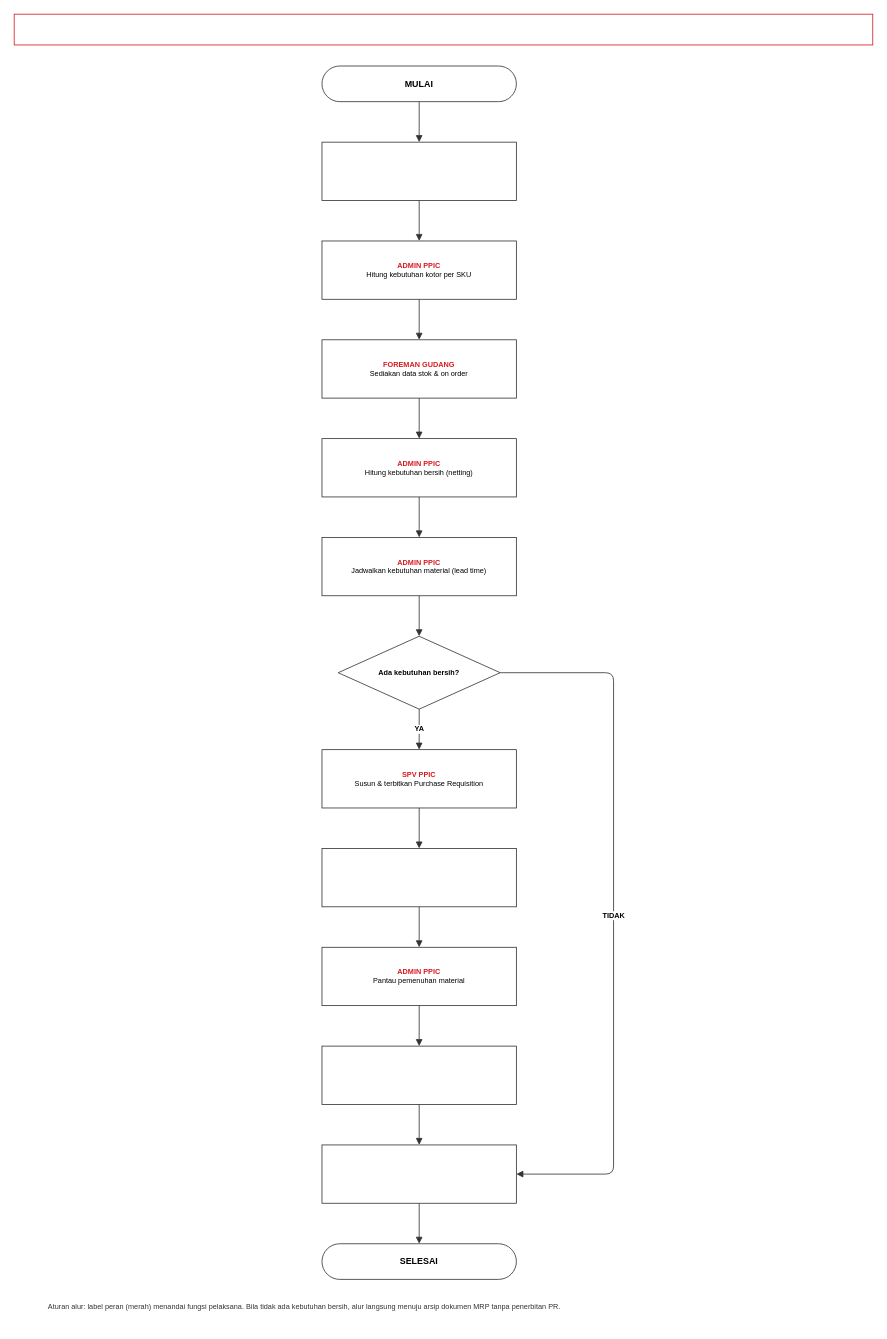
This 887x1339 diagram has some shape labels left out. The shapes that lost their labels are listed below. From the top down, each one's centre as x and y in pixels, then its label:
(x=443, y=29): FLOW SOP-AKSI-PPIC-02 MATERIAL REQUIREMENT PLANNING (MRP)
(x=418, y=170): ADMIN PPIC Tarik Production Plan (Approved)
(x=418, y=877): PURCHASING Konfirmasi status PR/PO
(x=418, y=1074): SPV PPIC Eskalasi risiko keterlambatan (bila ada)
(x=418, y=1173): ADMIN PPIC Arsipkan dokumen MRP
